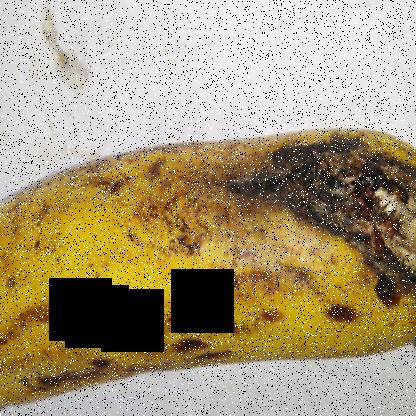rotten: (231, 128, 415, 372)
